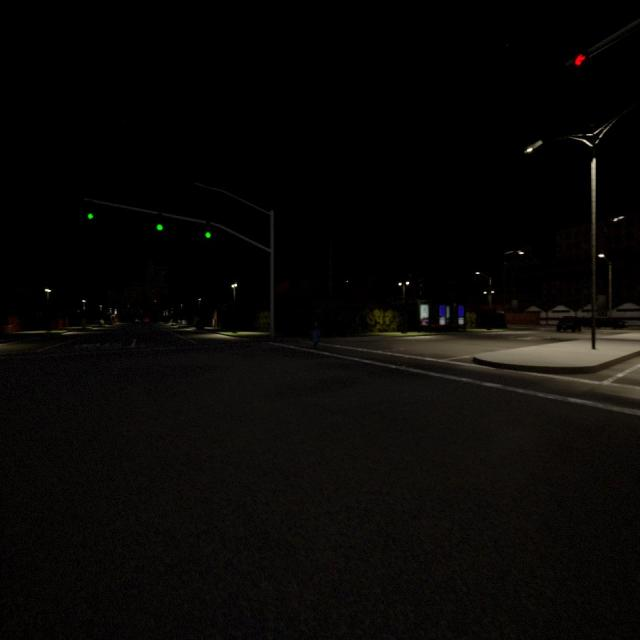Pedestrian: (313, 322, 318, 348)
Vehicle: (556, 316, 581, 332), (613, 320, 625, 329)
traffic_light: (575, 54, 585, 66), (157, 213, 163, 231), (205, 222, 211, 238), (88, 201, 93, 219)
